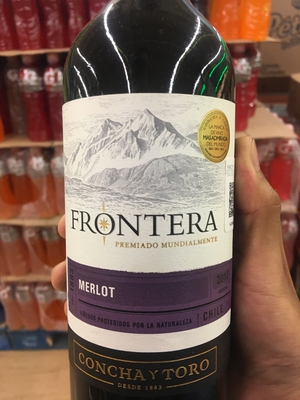frontera merlot: (59, 3, 240, 400)
